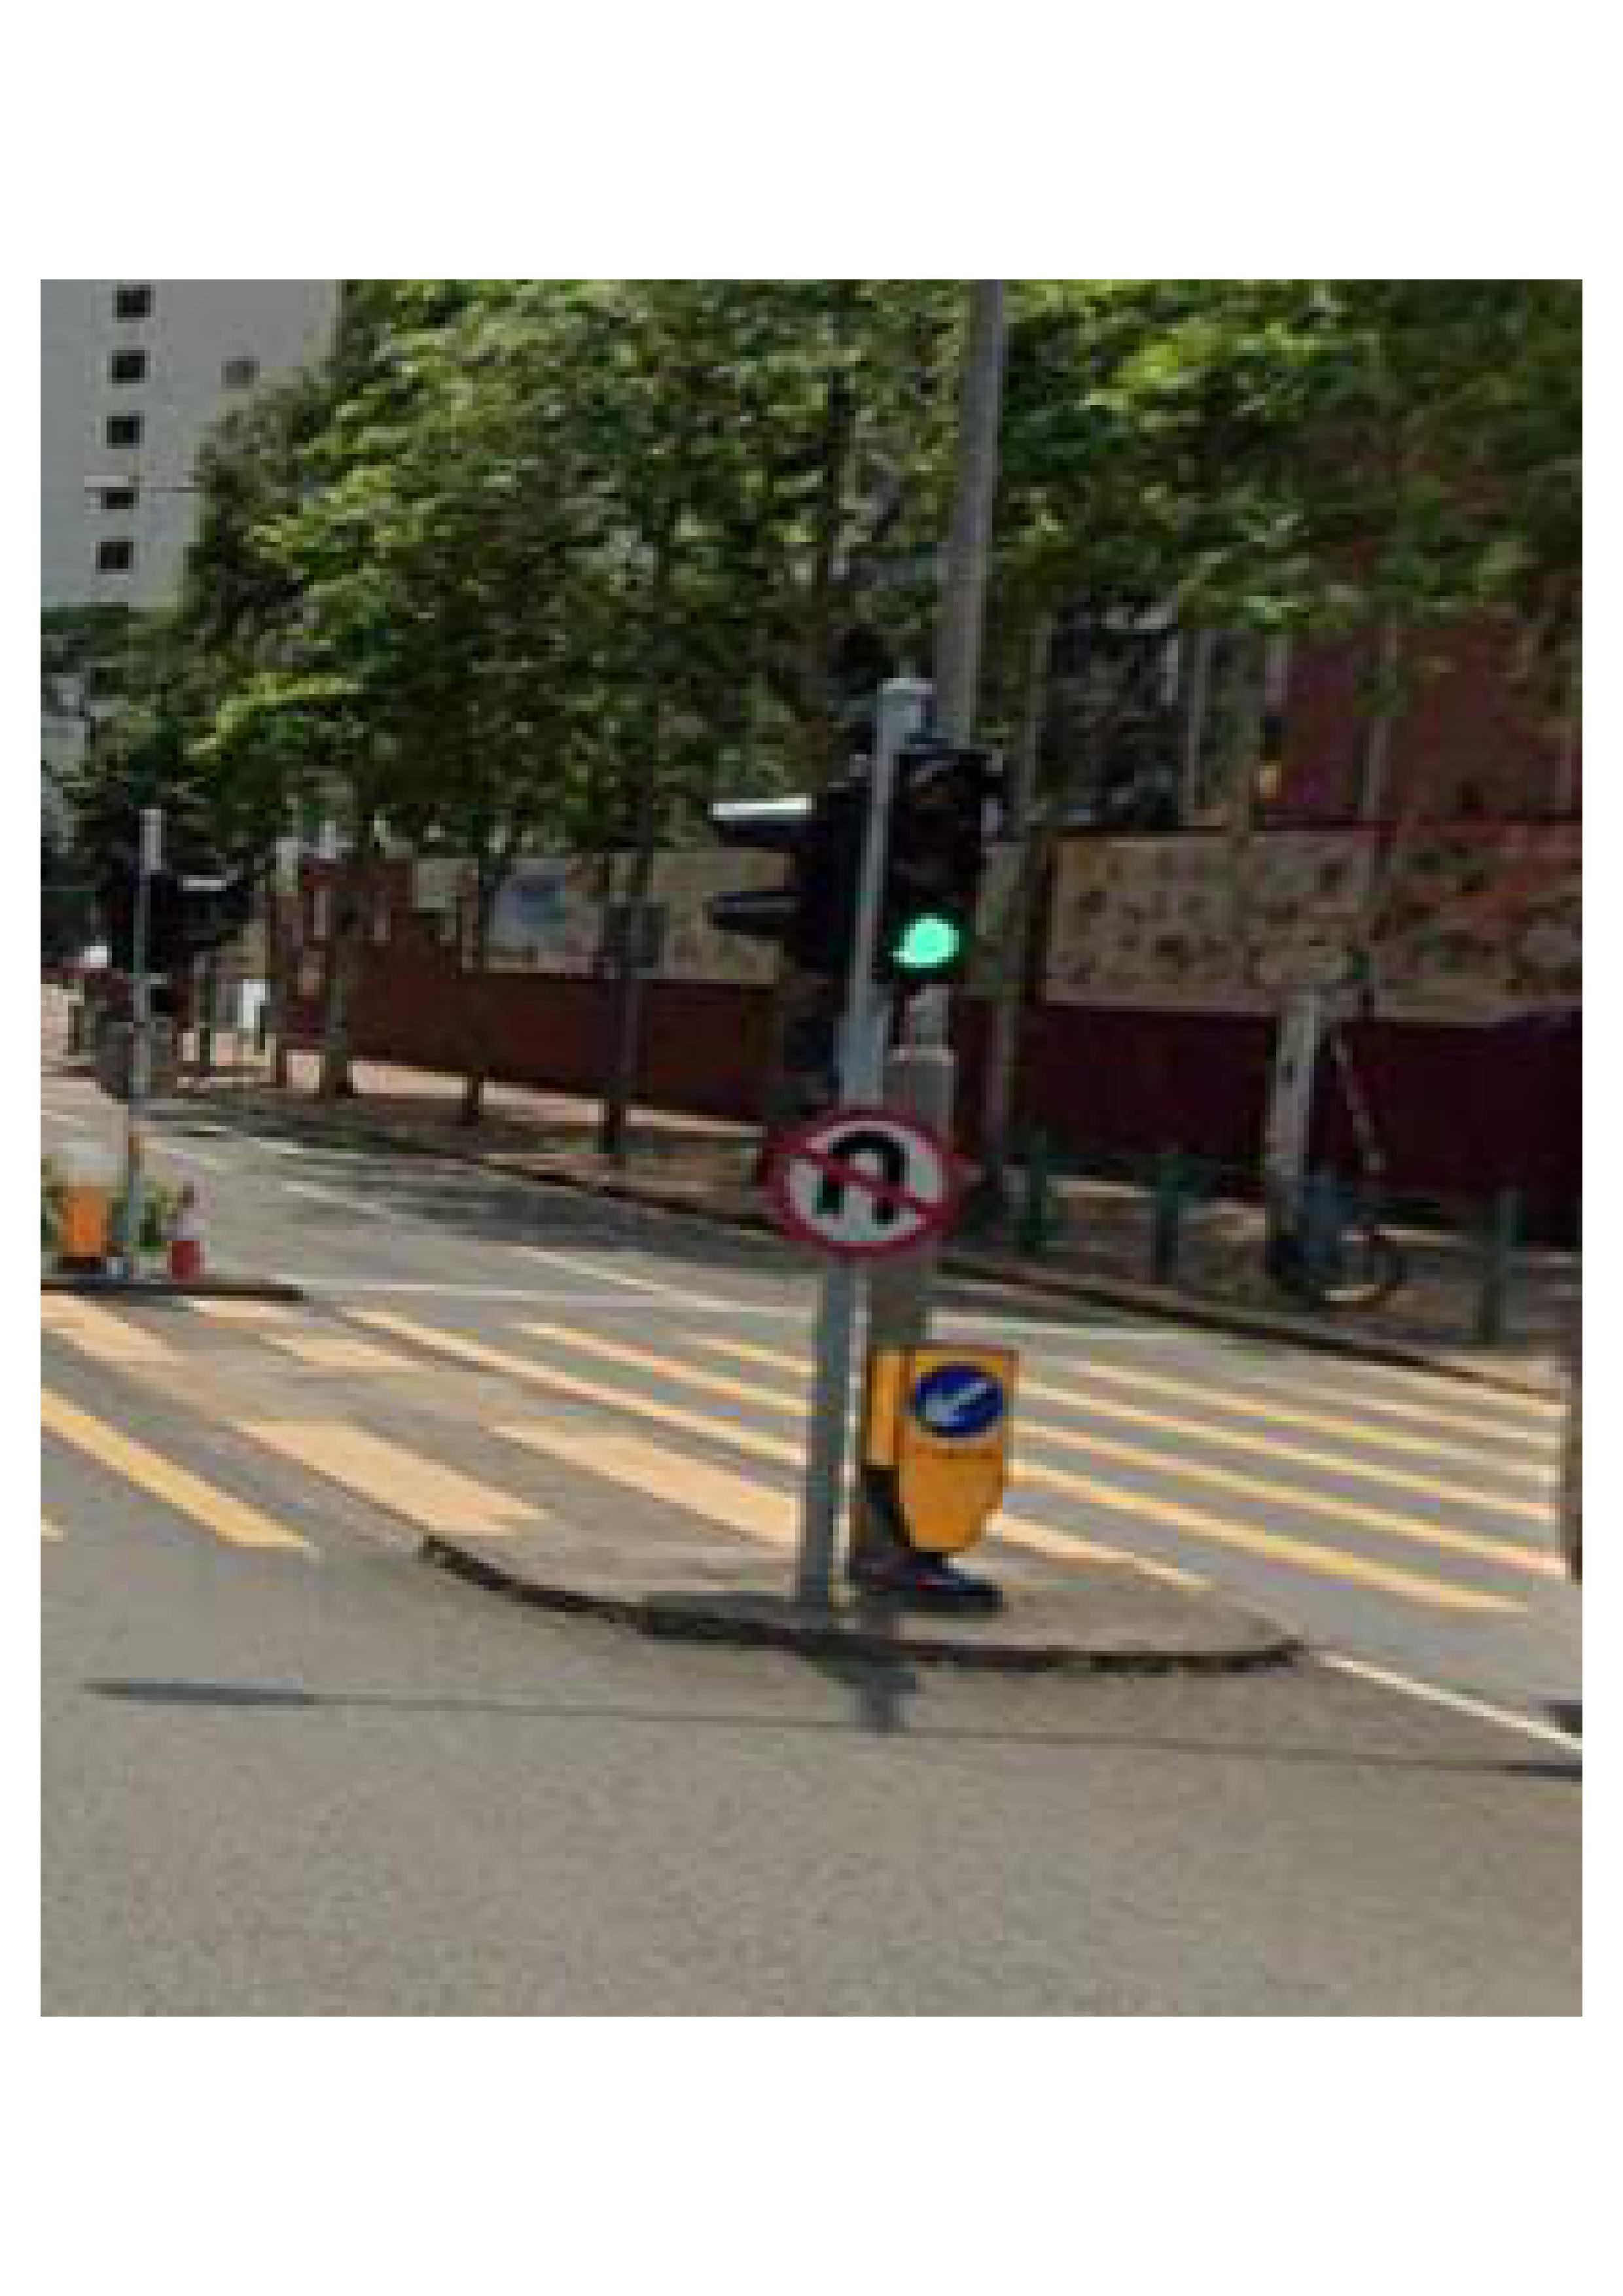No Uturn: (769, 1085, 970, 1267)
